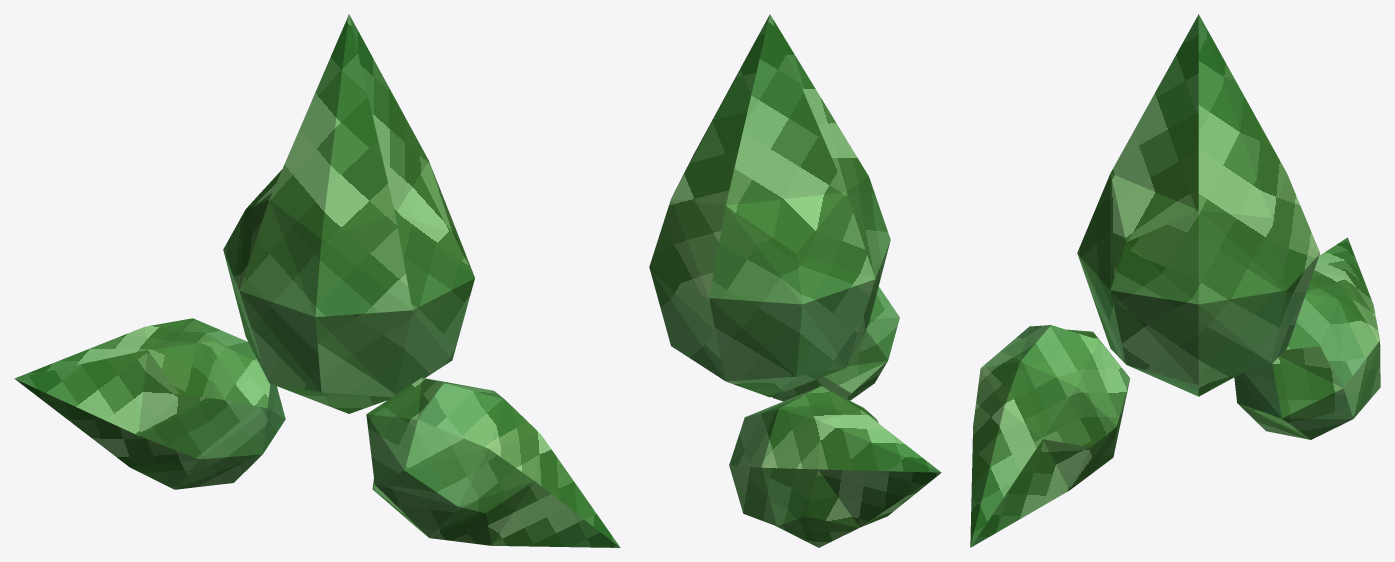
The model's file is NASIONO2.glb.
3 views of the same model, side by side, from view 1: azimuth 30°, elevation 25°; view 2: azimuth 150°, elevation 25°; view 3: azimuth 270°, elevation 25° (orthographic). The views are drawn at different scales.
Parts seen in each view (by area): view 1: NASIONO2; view 2: NASIONO2; view 3: NASIONO2.
Part boxes in pixels (x1=…): NASIONO2: x1=14, y1=14, x2=620, y2=547; NASIONO2: x1=649, y1=14, x2=941, y2=547; NASIONO2: x1=970, y1=14, x2=1380, y2=547.
Size of the model in its own units: 0.0991 by 0.1119 by 0.0899.
1 material, 1 textured.
